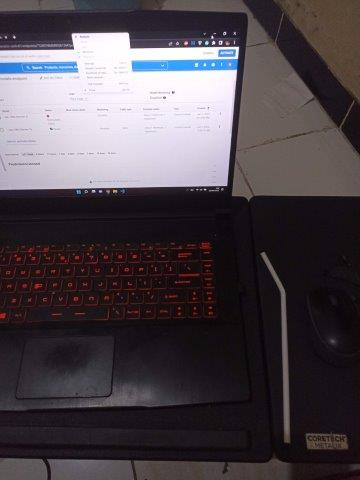sedotan: (260, 252, 291, 444)
